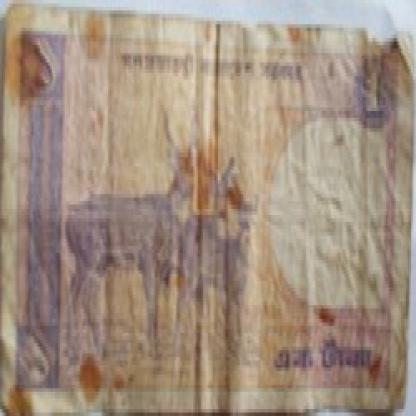One Taka: (273, 336, 379, 388), (24, 31, 64, 104), (17, 326, 55, 388)
